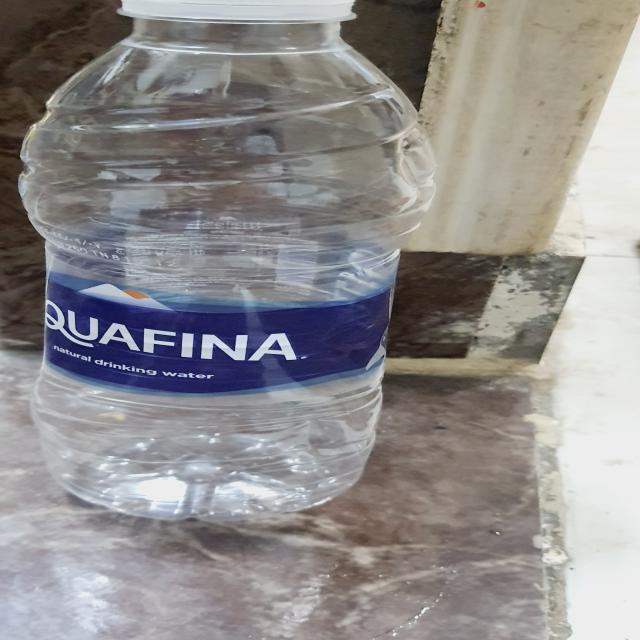plastic: (17, 0, 436, 530)
